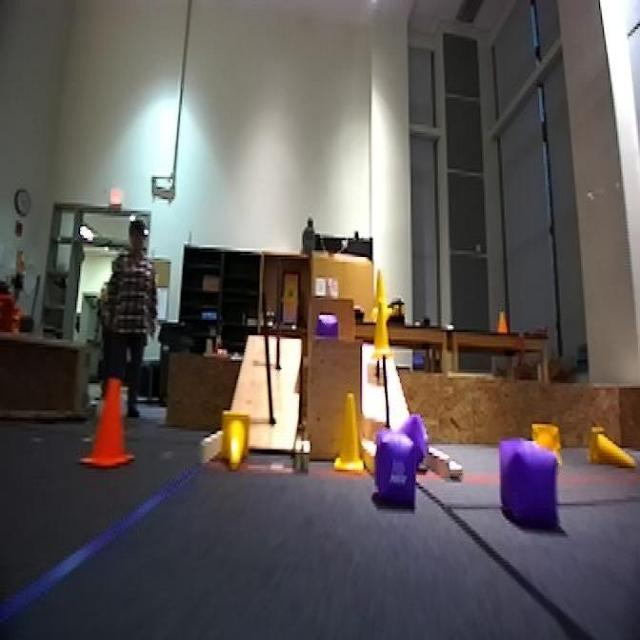frc_cone: (334, 388, 366, 477), (589, 429, 639, 475), (220, 410, 249, 472), (528, 417, 560, 468), (370, 306, 395, 362), (374, 266, 390, 308)
frc_cube: (497, 439, 566, 531), (372, 429, 414, 507), (392, 419, 426, 466), (315, 316, 340, 341)
